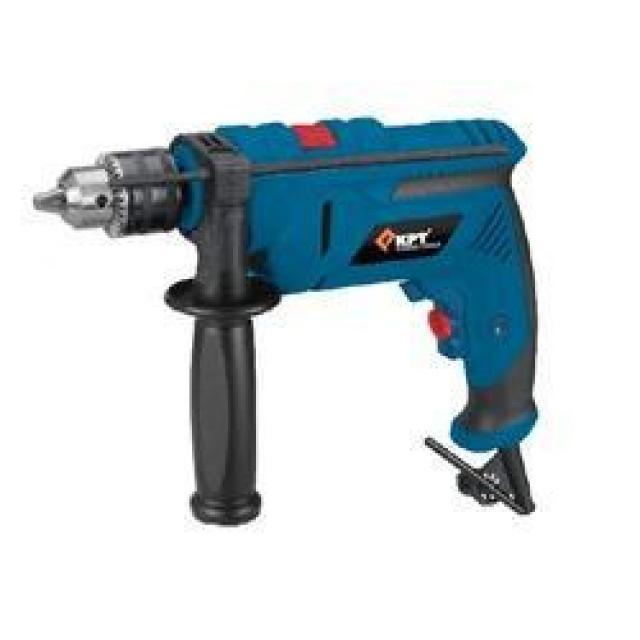drill: (31, 114, 542, 529)
